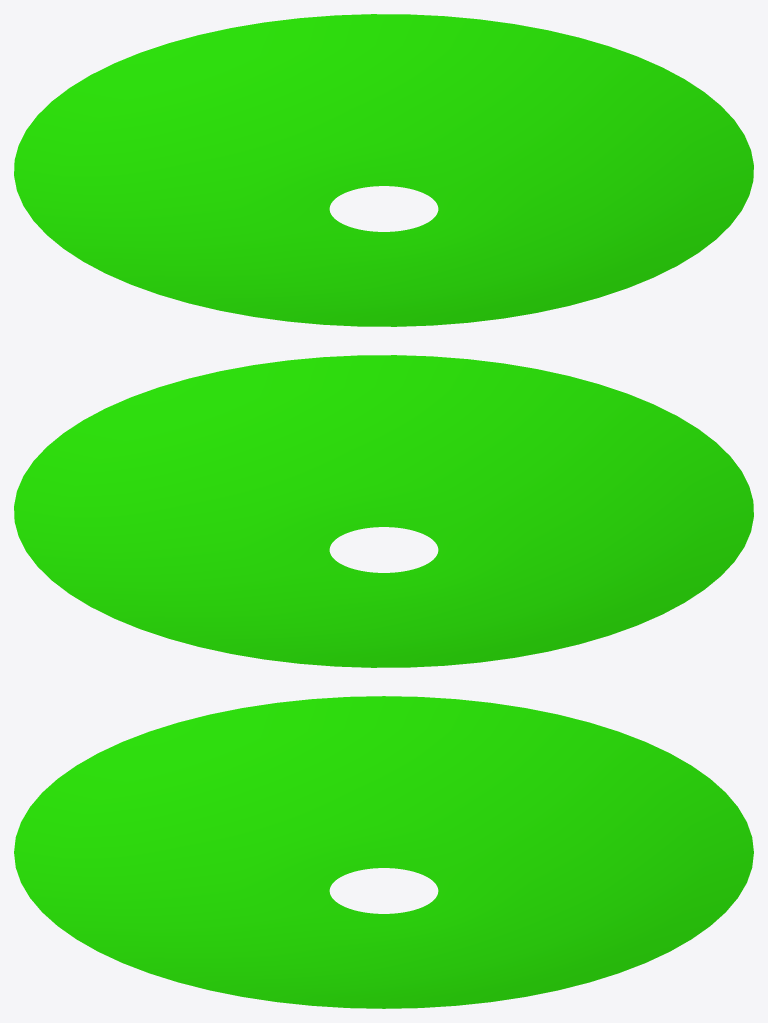
The model's file is p_mesh_trashbot_windpushroar_groundgoo01_pose0.fbx.
The picture shows the model from 3 angles, top to bottom: view 1: azimuth 30°, elevation 25°; view 2: azimuth 150°, elevation 25°; view 3: azimuth 270°, elevation 25°; orthographic projection.
Parts seen in each view (by area): view 1: goo_pose0; view 2: goo_pose0; view 3: goo_pose0.
Part boxes in pixels (left/top/right/bottom): goo_pose0: left=14, top=14, right=753, bottom=326; goo_pose0: left=14, top=355, right=753, bottom=667; goo_pose0: left=14, top=696, right=753, bottom=1008.
Size of the model in its own units: 235 by 13.49 by 235.
